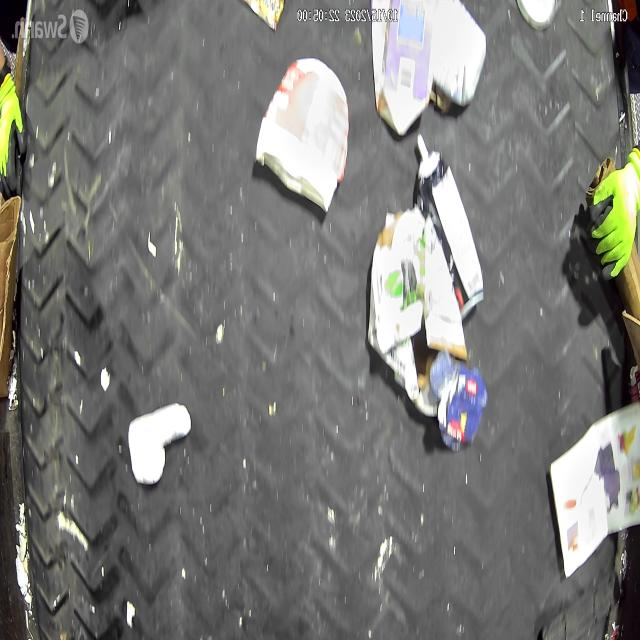can: (416, 149, 484, 320)
non_white_jug: (374, 0, 433, 138)
